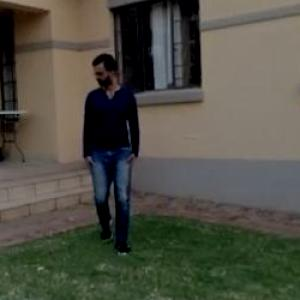follow: (78, 46, 139, 258)
